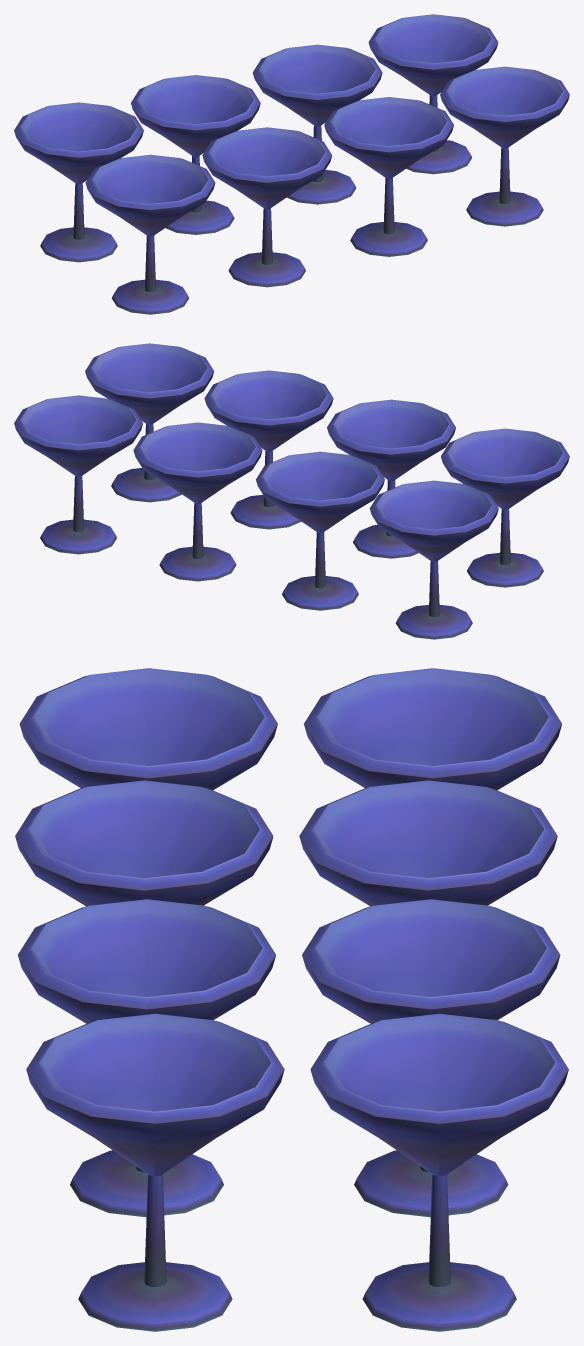
The model's file is drinks_8_glasses.DAE.
3 renders of one model, top to bottom at view 1: azimuth 30°, elevation 25°; view 2: azimuth 150°, elevation 25°; view 3: azimuth 270°, elevation 25°, orthographic. The views are drawn at different scales.
Visible parts, largest first — view 1: Cylinder01; view 2: Cylinder01; view 3: Cylinder01.
Boxes of the visible parts, x1=… form: Cylinder01: x1=14, y1=14, x2=569, y2=314; Cylinder01: x1=14, y1=343, x2=569, y2=639; Cylinder01: x1=15, y1=668, x2=568, y2=1331.
Size of the model in its own units: 1.63 by 0.3943 by 0.8367.
